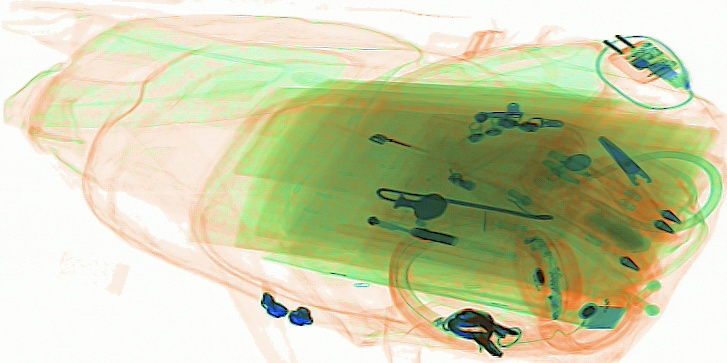scissors: (598, 130, 693, 233)
